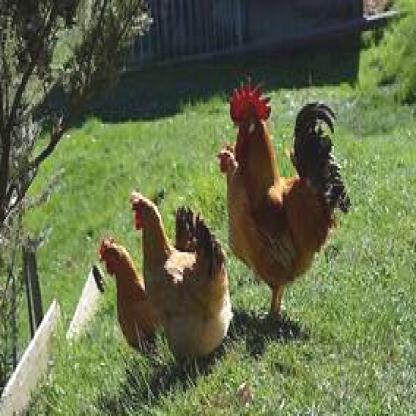chicken: (229, 78, 348, 314), (129, 193, 228, 354), (97, 235, 145, 354), (215, 144, 239, 181)
